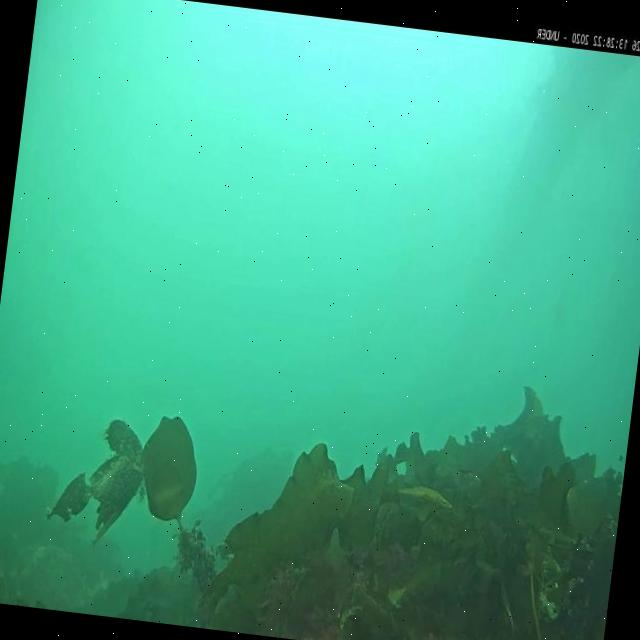fish: (394, 481, 454, 506), (456, 464, 478, 480)
